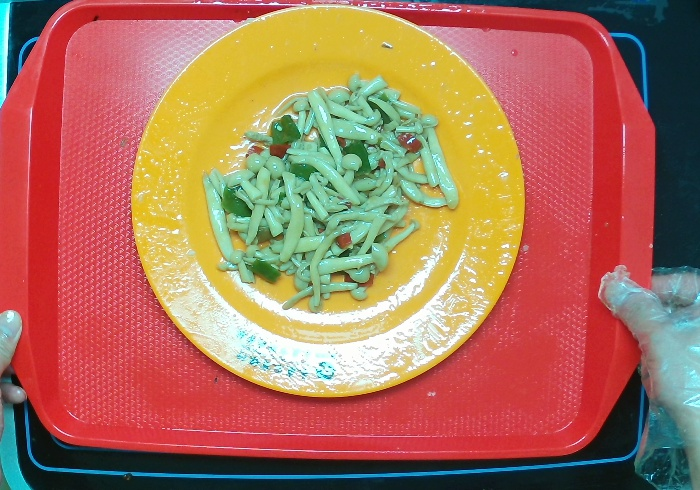YKMZ-Ju_Se_Mian_Pan: (130, 8, 526, 403)
